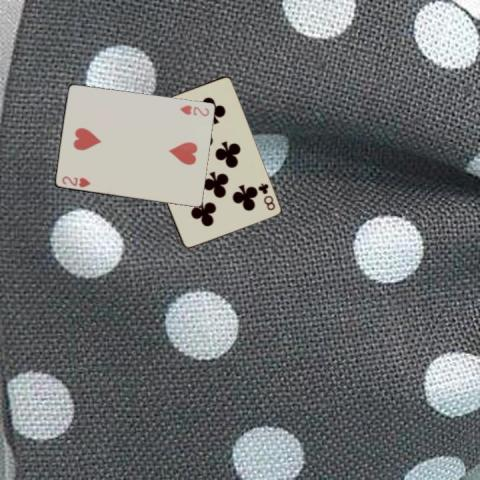2h: (177, 102, 210, 118), (59, 173, 91, 189)
8c: (254, 180, 276, 212)
